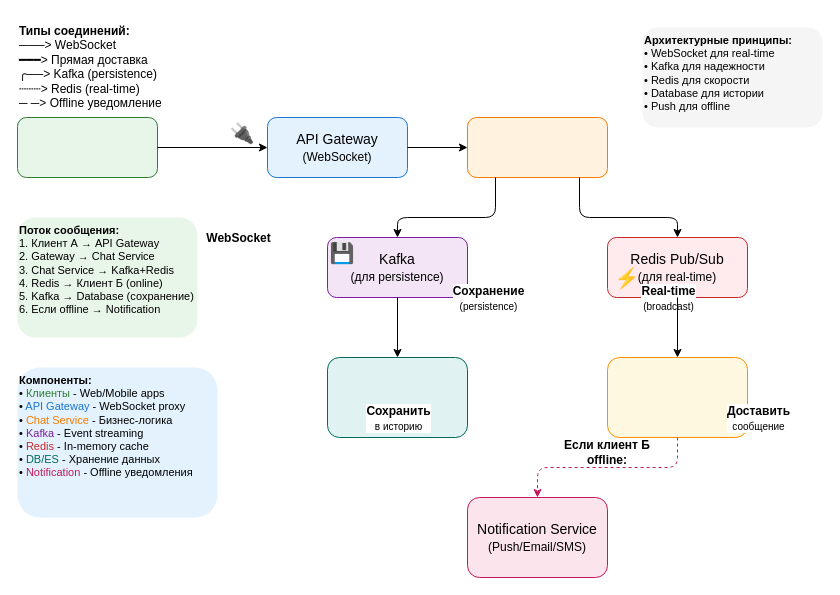
Some shapes in this 840 by 595 pixel diagram are drawn without their labels. Here are the shapes that lost their labels. From the top down, the centre of each, then its label:
At [87,147]: "Клиент А (Web/Mobile)".
At [537,147]: "Chat Service (WebSocket Hub)".
At [397,397]: "Database / Elasticsearch (история чата)".
At [677,397]: "Клиент Б получает сообщение".
